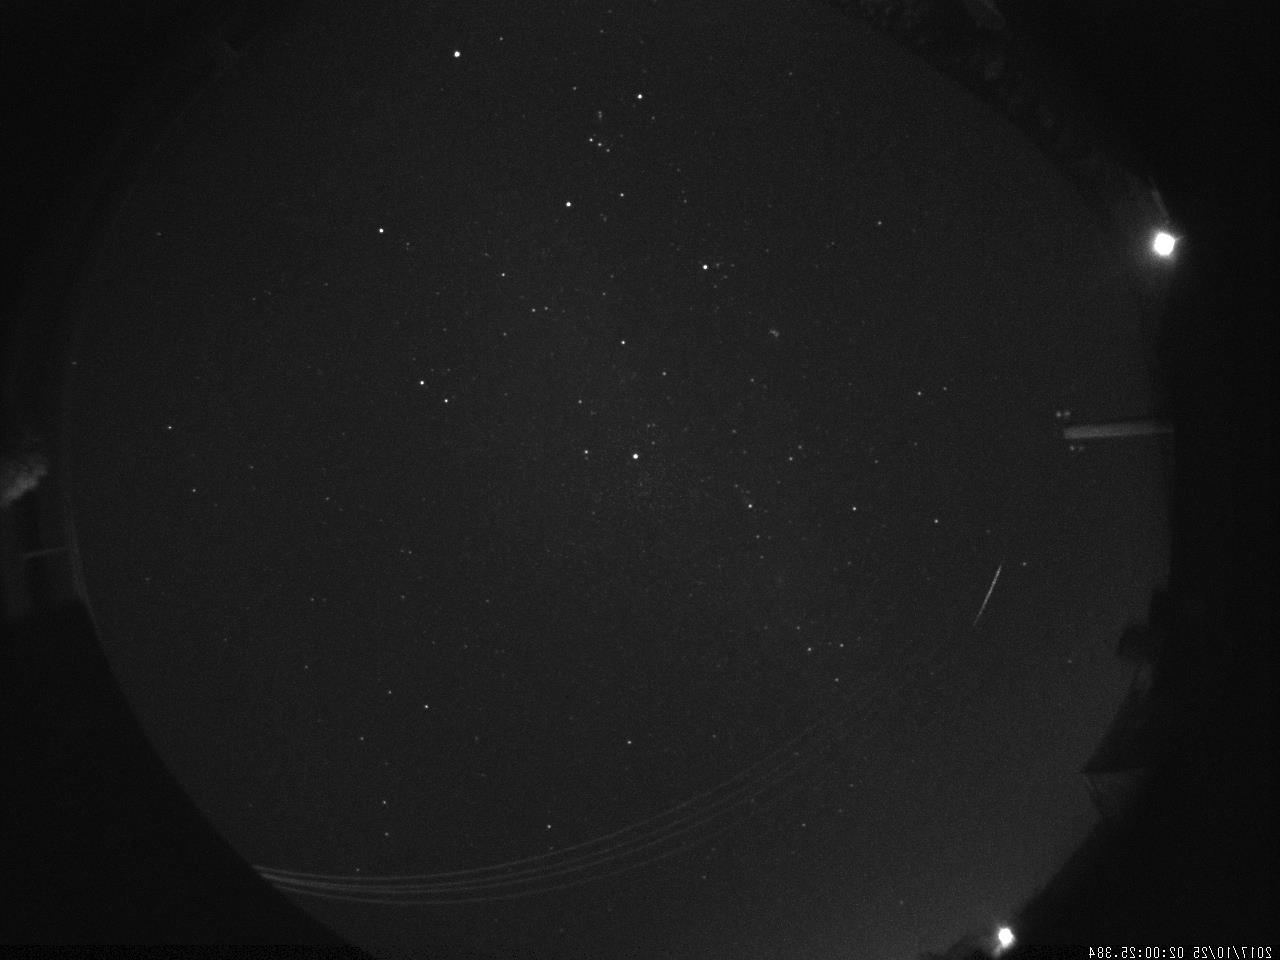meteor: (966, 559, 1011, 634)
